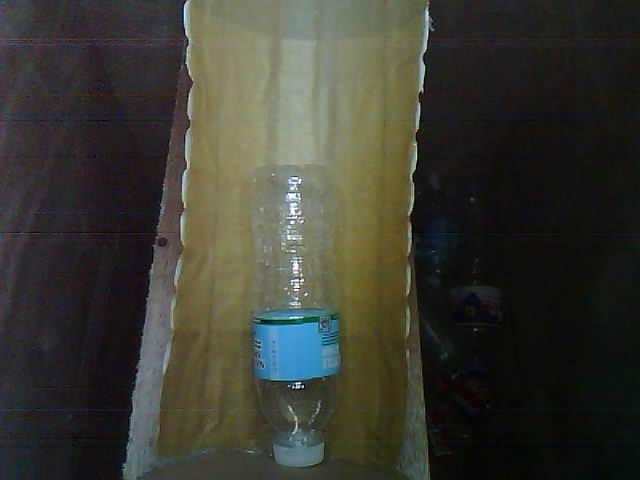small_bottle: (231, 150, 360, 480)
